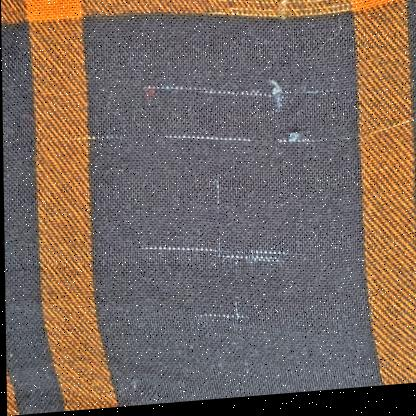spot: (135, 89, 157, 107)
